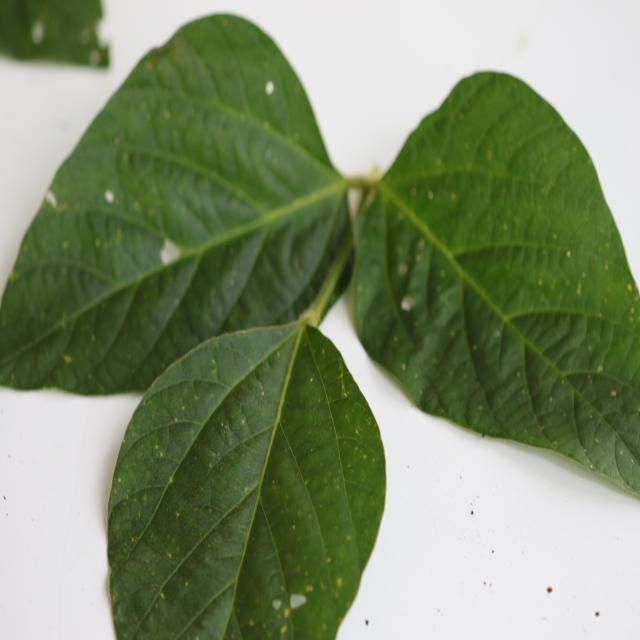Soybean: (0, 14, 640, 640)
downey_mildew: (5, 225, 195, 393), (112, 375, 260, 558), (208, 162, 346, 332), (146, 118, 331, 239), (250, 414, 348, 640), (171, 16, 317, 147), (522, 302, 636, 469), (167, 210, 278, 343), (365, 215, 441, 382), (476, 239, 616, 315), (360, 230, 455, 335), (114, 146, 207, 245), (298, 328, 369, 456), (464, 281, 525, 406), (82, 209, 163, 279)
